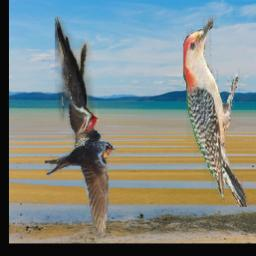Swallow: (44, 101, 115, 239)
Woodpecker: (182, 15, 249, 207), (55, 16, 99, 138)
